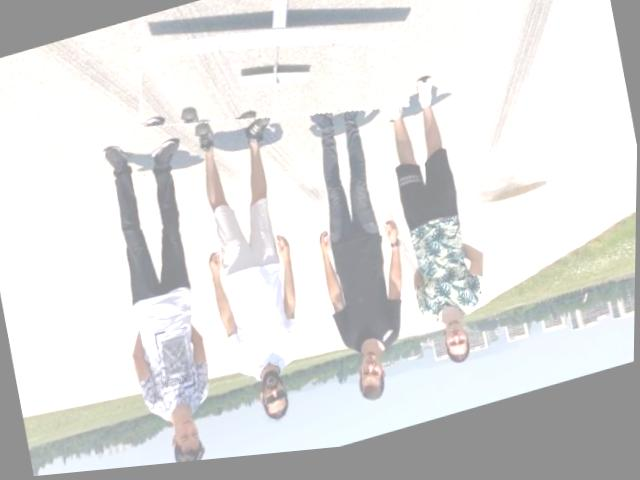insansiz-hava-araci: (124, 0, 429, 170)
